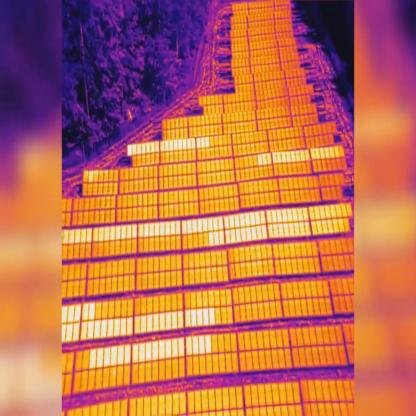diode: (64, 303, 71, 322), (83, 320, 90, 339), (100, 346, 106, 368), (90, 347, 96, 368), (90, 321, 97, 338), (107, 347, 113, 366), (134, 343, 140, 362), (154, 341, 160, 360), (174, 338, 180, 357), (64, 324, 71, 340), (161, 314, 168, 330), (70, 302, 76, 320), (76, 322, 82, 340), (87, 301, 93, 319), (76, 303, 82, 321), (93, 301, 99, 319), (110, 320, 116, 338), (168, 340, 174, 358), (188, 337, 194, 355), (195, 338, 201, 356), (202, 336, 208, 354), (98, 320, 104, 337), (148, 342, 153, 362), (71, 322, 77, 338), (104, 321, 110, 337), (140, 316, 146, 332), (200, 309, 206, 325), (317, 207, 323, 223), (127, 344, 132, 363), (162, 340, 167, 359), (313, 223, 320, 236), (130, 318, 135, 336), (155, 317, 161, 332), (175, 313, 181, 328), (181, 311, 186, 329), (206, 308, 211, 326), (211, 310, 217, 325), (113, 346, 118, 364), (141, 344, 146, 362), (66, 226, 72, 241), (182, 219, 188, 234), (220, 231, 226, 246), (268, 211, 274, 226), (102, 224, 108, 238), (151, 223, 158, 235), (168, 221, 174, 235), (232, 216, 238, 230), (227, 230, 233, 244), (270, 225, 276, 239), (335, 222, 341, 236), (124, 319, 129, 335), (146, 316, 151, 332), (194, 310, 199, 326), (119, 348, 124, 364), (181, 338, 186, 354), (158, 221, 164, 234), (243, 215, 249, 228), (306, 223, 312, 236), (118, 320, 123, 335), (152, 316, 157, 331), (168, 315, 173, 330), (188, 311, 193, 326), (263, 212, 268, 227), (296, 211, 302, 223), (330, 208, 336, 220), (335, 208, 341, 220), (318, 222, 324, 234), (62, 228, 67, 242), (84, 225, 89, 239), (162, 221, 167, 235), (237, 214, 242, 228), (215, 231, 220, 245), (94, 172, 100, 183), (258, 214, 264, 225), (277, 226, 283, 237), (306, 209, 312, 220), (340, 208, 346, 219), (345, 207, 351, 218), (288, 153, 294, 164), (330, 149, 336, 160), (325, 209, 330, 222), (330, 223, 335, 236), (207, 336, 211, 352), (174, 222, 179, 234), (200, 218, 204, 233), (216, 217, 221, 229), (226, 216, 231, 228), (239, 232, 245, 242), (248, 216, 254, 226), (275, 211, 280, 223), (212, 233, 216, 248), (309, 151, 314, 163), (336, 149, 341, 161), (73, 226, 77, 240), (91, 226, 95, 240), (96, 226, 100, 240), (141, 222, 145, 236), (260, 225, 264, 239), (288, 224, 292, 238), (147, 224, 152, 235), (179, 222, 184, 233), (189, 222, 194, 233), (195, 221, 200, 232), (210, 220, 215, 231), (198, 140, 204, 149), (114, 224, 118, 237), (124, 224, 128, 237), (234, 230, 238, 243), (286, 210, 290, 223), (249, 228, 254, 238), (253, 214, 258, 224), (265, 156, 270, 166), (270, 154, 275, 164), (315, 152, 320, 162), (320, 150, 325, 160), (326, 150, 331, 160), (165, 141, 170, 151), (78, 227, 82, 239), (222, 217, 226, 229), (255, 227, 259, 239), (312, 210, 316, 222), (325, 222, 329, 234), (294, 152, 298, 164), (304, 152, 308, 164), (208, 135, 212, 147), (61, 324, 64, 339), (182, 140, 186, 151), (108, 226, 112, 237), (130, 224, 134, 235), (136, 224, 140, 235), (264, 227, 268, 238), (282, 211, 286, 222), (293, 227, 297, 238), (298, 226, 302, 237), (276, 153, 280, 164), (292, 210, 295, 224), (352, 205, 355, 219), (130, 146, 134, 156), (150, 144, 154, 154), (160, 142, 164, 152), (244, 231, 248, 241), (283, 226, 287, 236), (302, 211, 306, 221), (284, 154, 288, 164), (299, 151, 302, 164), (143, 144, 147, 153), (159, 140, 162, 152), (174, 141, 178, 150), (204, 139, 208, 148), (120, 225, 123, 237), (303, 224, 306, 236), (84, 302, 86, 319), (155, 141, 158, 152), (280, 153, 283, 164), (134, 146, 138, 154), (90, 172, 93, 182), (196, 138, 199, 148), (206, 221, 209, 230), (179, 140, 182, 148), (188, 140, 191, 148), (192, 139, 195, 147), (260, 157, 263, 165), (140, 145, 142, 155), (63, 302, 64, 321), (170, 141, 172, 150), (148, 144, 150, 152)
hotspot: (87, 171, 90, 174)
